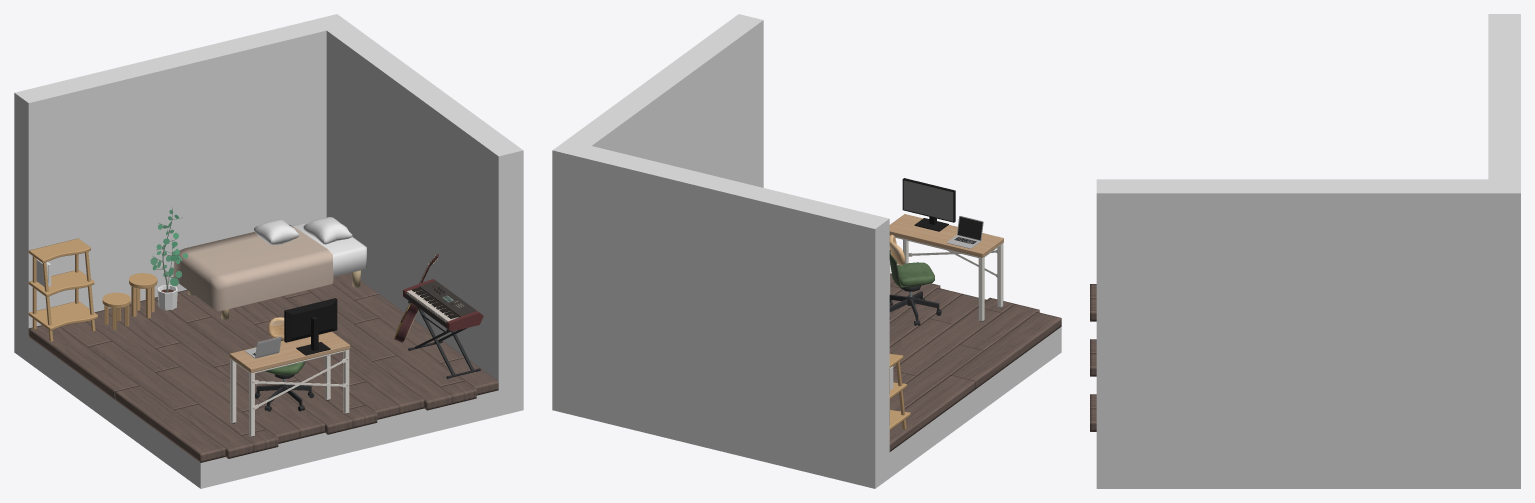
Rendered from Portfolio2025-Room-20250913.glb.
The picture shows the model from 3 angles, left to right: view 1: azimuth 30°, elevation 25°; view 2: azimuth 150°, elevation 25°; view 3: azimuth 270°, elevation 25°; orthographic projection. The views are drawn at different scales.
Parts seen in each view (by area): view 1: Wall, WoodFloor, ベッド掛け布団, Desk, Shelf, Synthesizer.001, モニター27インチ, ベッド, Chair, Plant, 円柱.011, KeyboardStand (+4 smaller); view 2: Wall, WoodFloor, Desk, モニター27インチ, Chair, Shelf; view 3: Wall, WoodFloor.
Boxes of the visible parts, x1,y1,x2,y2 form: Wall: (14,14,523,488); WoodFloor: (28,273,498,462); ベッド掛け布団: (173,224,333,311); Desk: (229,331,350,437); Shelf: (28,238,97,341); Synthesizer.001: (403,279,483,331); モニター27インチ: (284,298,337,355); ベッド: (188,222,366,319); Chair: (255,317,314,411); Plant: (150,208,187,292); 円柱.011: (129,273,157,318); KeyboardStand: (408,301,480,378); Wall: (552,14,1061,488); WoodFloor: (889,273,1061,451); Desk: (889,214,1003,321); モニター27インチ: (902,178,955,231); Chair: (889,234,941,325); Shelf: (889,353,910,440); Wall: (1096,14,1520,488); WoodFloor: (1090,284,1096,431).
Bounding box in the file's own units: 3.9 × 3 × 3.96.
21 materials, 7 textured.
